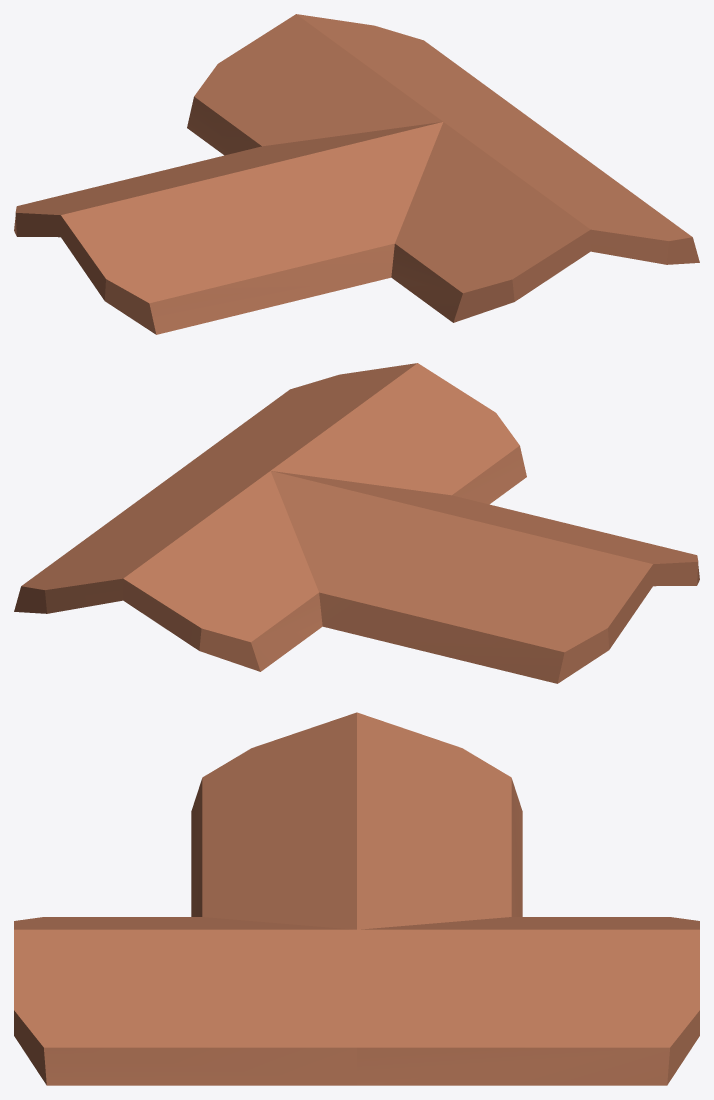
Rendered from SM_Roof_Top_T_1m_Empire.fbx.
3 views of the same model, one above another, from view 1: azimuth 30°, elevation 25°; view 2: azimuth 150°, elevation 25°; view 3: azimuth 270°, elevation 25° (orthographic). The views are drawn at different scales.
Parts seen in each view (by area): view 1: SM_Roof_Top_T_1m_Empire; view 2: SM_Roof_Top_T_1m_Empire; view 3: SM_Roof_Top_T_1m_Empire.
Part boxes in pixels (x1,y1,x2,y2): SM_Roof_Top_T_1m_Empire: [14, 14, 699, 334]; SM_Roof_Top_T_1m_Empire: [14, 363, 699, 683]; SM_Roof_Top_T_1m_Empire: [14, 712, 699, 1085].
Bounding box in the file's own units: 0.9917 × 0.1378 × 1.
